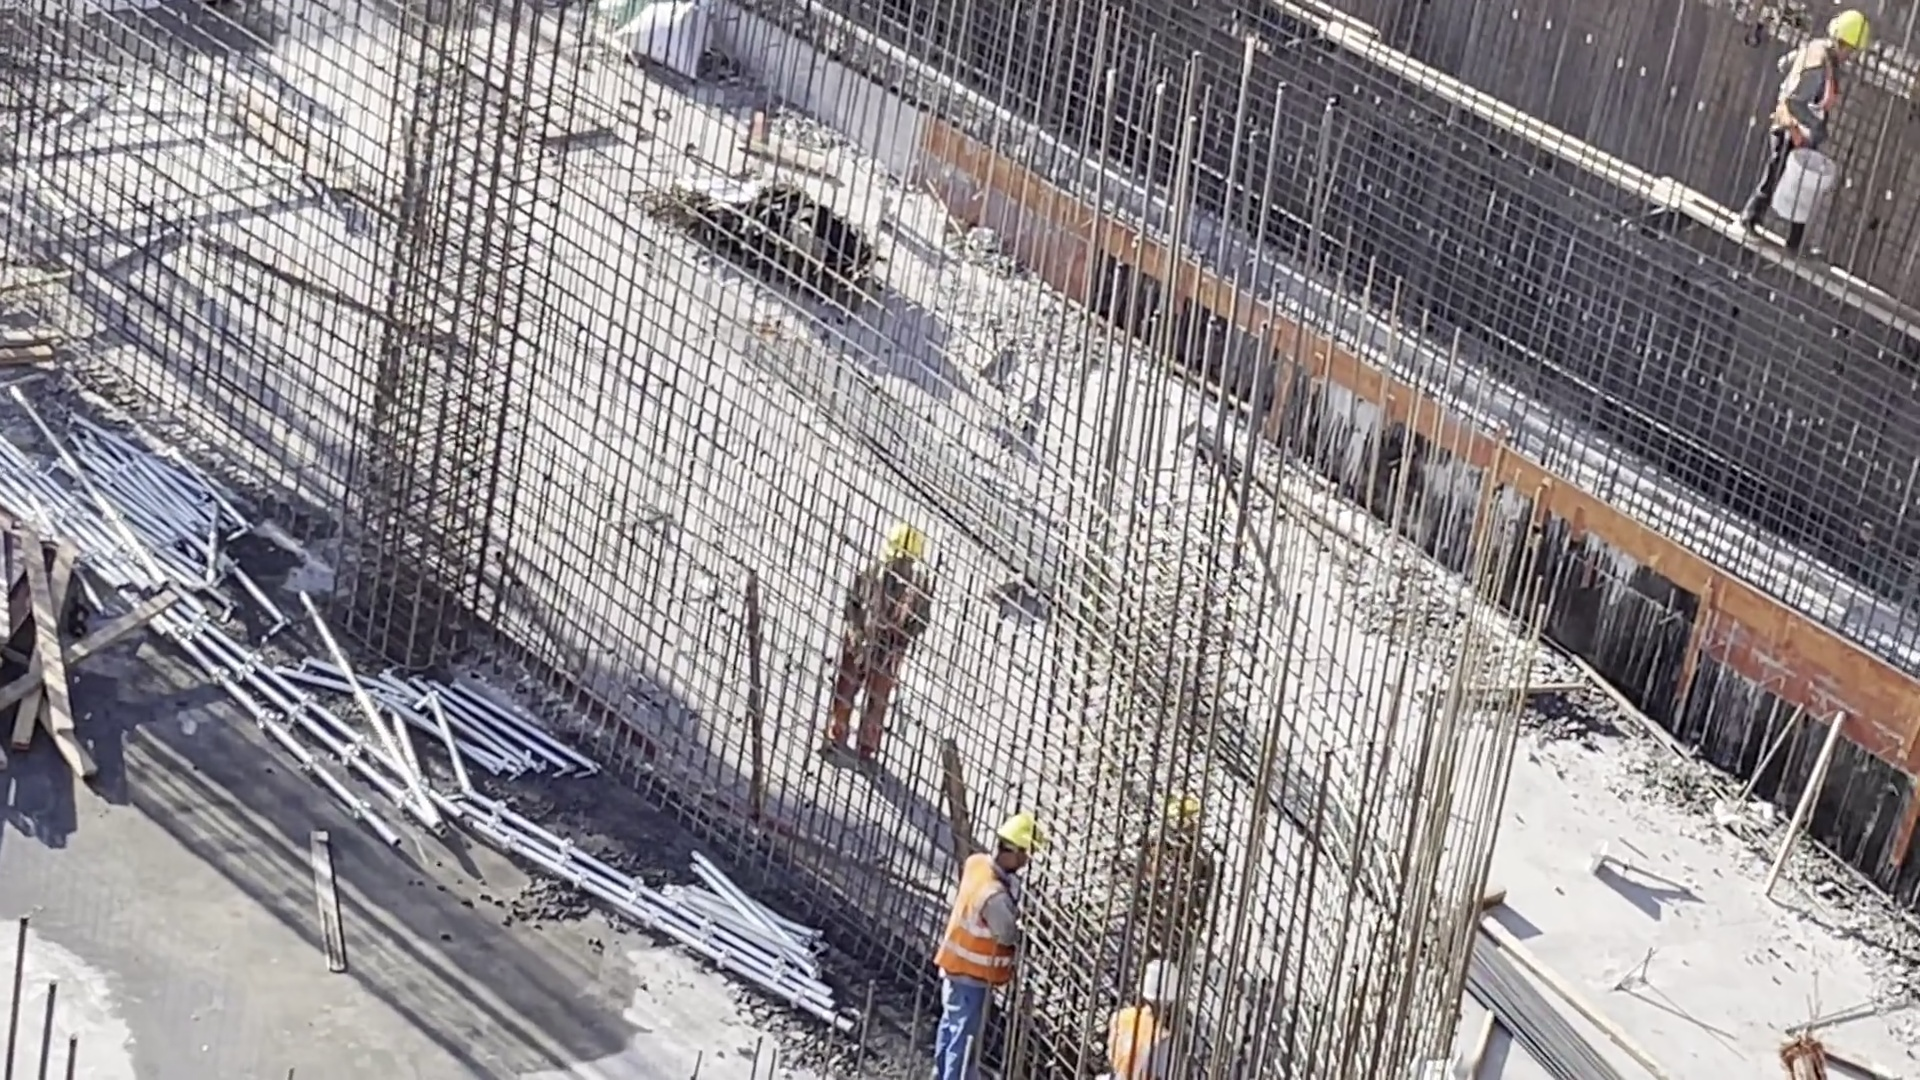helmet: (1817, 1, 1880, 53), (1006, 809, 1054, 858), (1132, 953, 1178, 1002), (891, 520, 933, 568), (1166, 802, 1208, 841)
person: (1733, 19, 1889, 249), (926, 800, 1025, 1080), (834, 527, 925, 764), (1143, 775, 1210, 967), (1100, 949, 1192, 1080)
rebar: (1440, 916, 1623, 1080)
scaffold: (350, 652, 578, 835), (67, 411, 268, 609), (613, 860, 829, 1035)
vest: (938, 851, 1013, 987), (1772, 39, 1846, 159), (865, 564, 934, 686), (1109, 1005, 1185, 1077)
wood: (1, 543, 71, 797)
